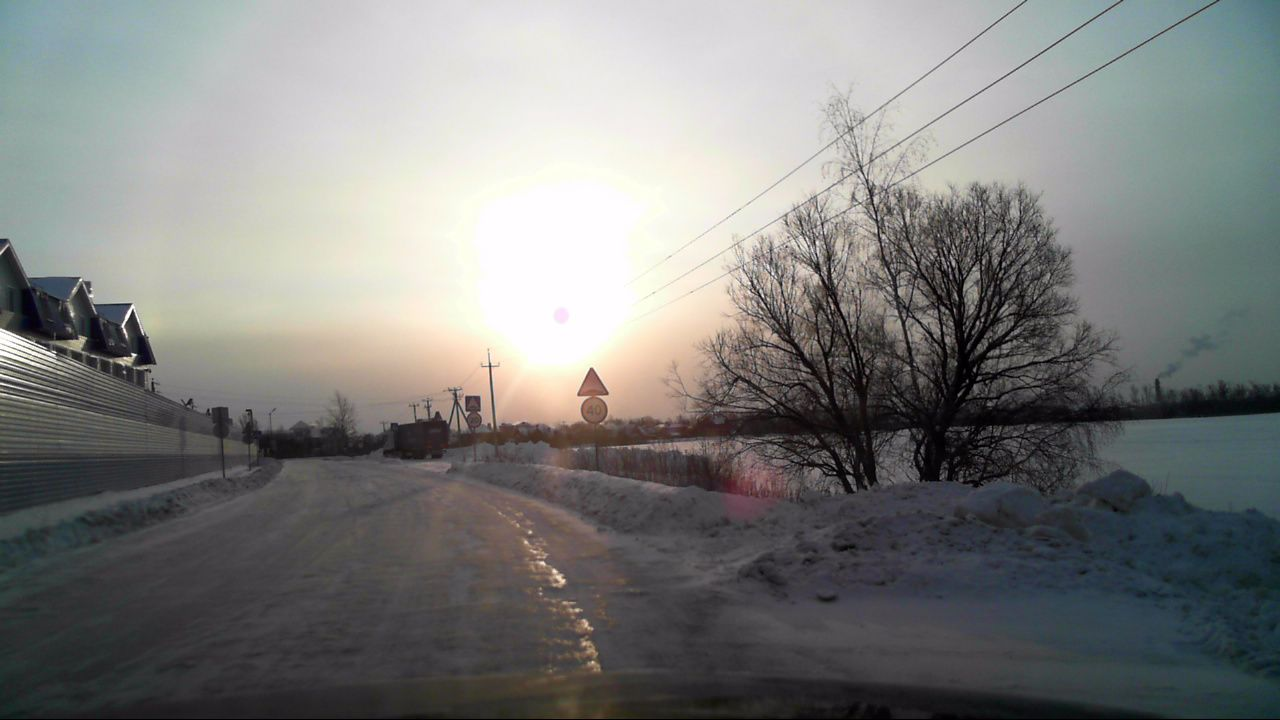speed_warning_40: (580, 398, 608, 424)
